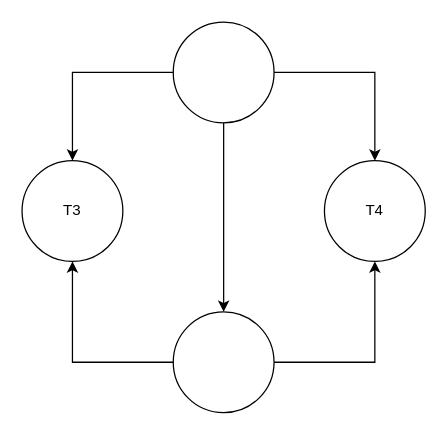
Image size: 447x435. Some labels were removed from this diagram. Here are the shapes that lost their labels. From the top down, the centre of each, then its label:
At [223,72]: "T2".
At [223,362]: "T1".
